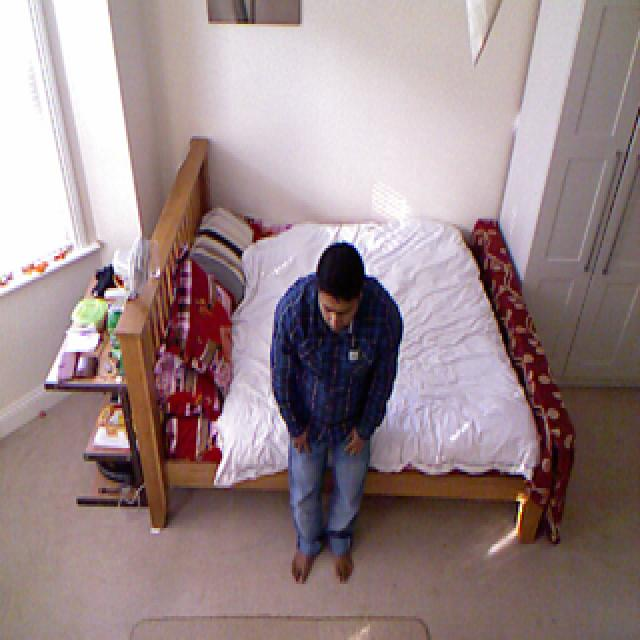standing: (264, 231, 404, 592)
